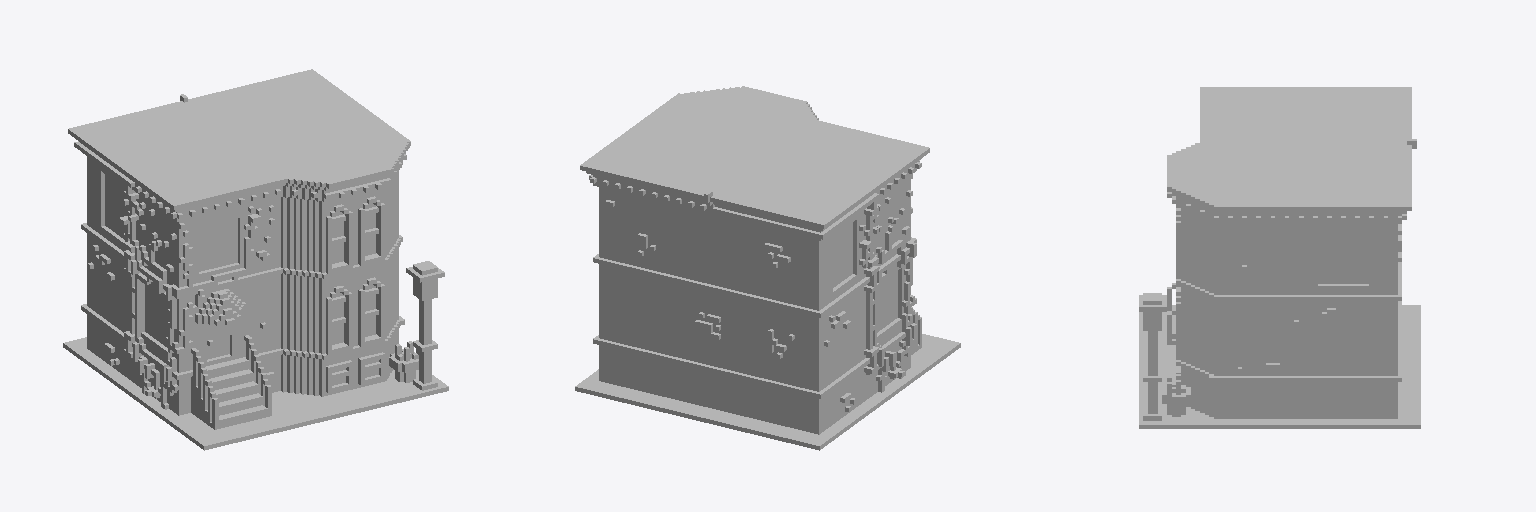
Rendered from Edificio Rojo-7-Edificio.obj.
3 renders of one model, left to right at view 1: azimuth 30°, elevation 25°; view 2: azimuth 150°, elevation 25°; view 3: azimuth 270°, elevation 25°, orthographic.
Parts seen in each view (by area): view 1: Edificio; view 2: Edificio; view 3: Edificio.
Part boxes in pixels (left/top/right/bottom): Edificio: left=63, top=69, right=448, bottom=450; Edificio: left=575, top=86, right=960, bottom=450; Edificio: left=1139, top=87, right=1420, bottom=428.
Size of the model in its own units: 6 by 5.3 by 6.